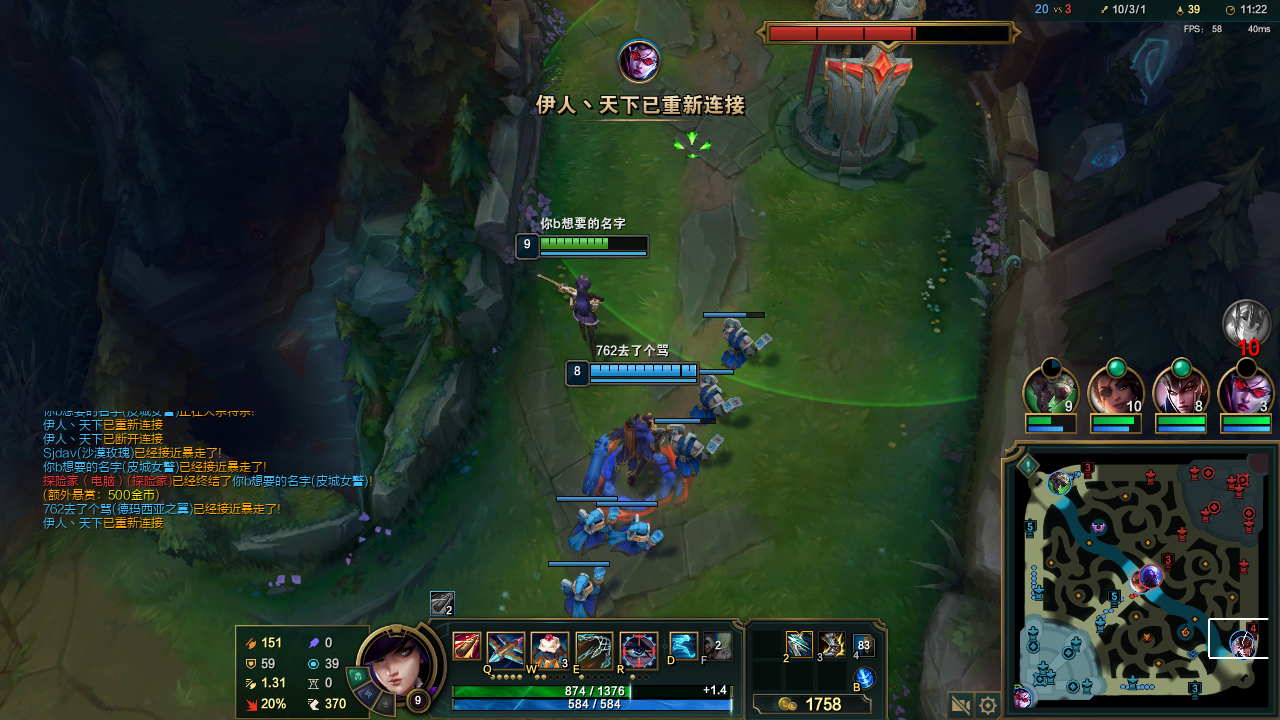DFFYT: (769, 25, 943, 175)
WFXB: (715, 325, 778, 363), (676, 434, 719, 478), (692, 382, 737, 423), (556, 574, 606, 608), (609, 521, 660, 551), (572, 507, 610, 547)
